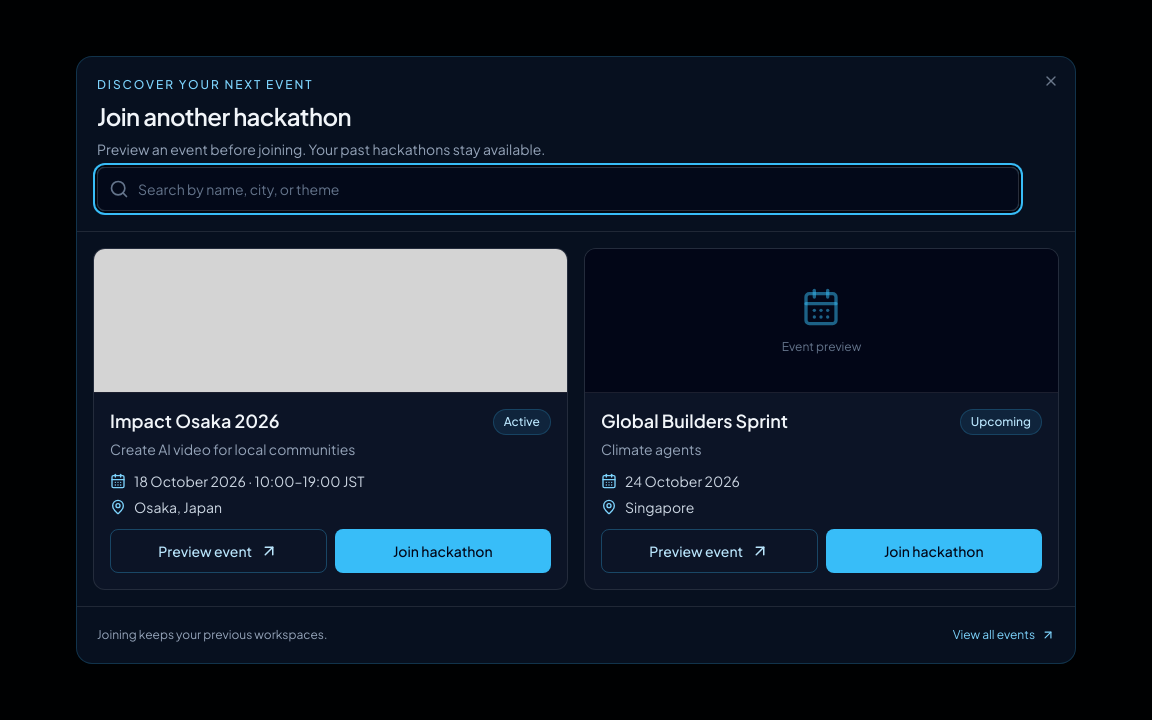
Test case: hackathon discovery › keeps a false join retryable instead of closing the discovery dialog
This screenshot has width=1152, height=720.
Later steps or results of the test are not shown.
Step 1. Click the button with aria-label "Join Impact Osaka 2026" → (443, 551), box [334,529,551,573]
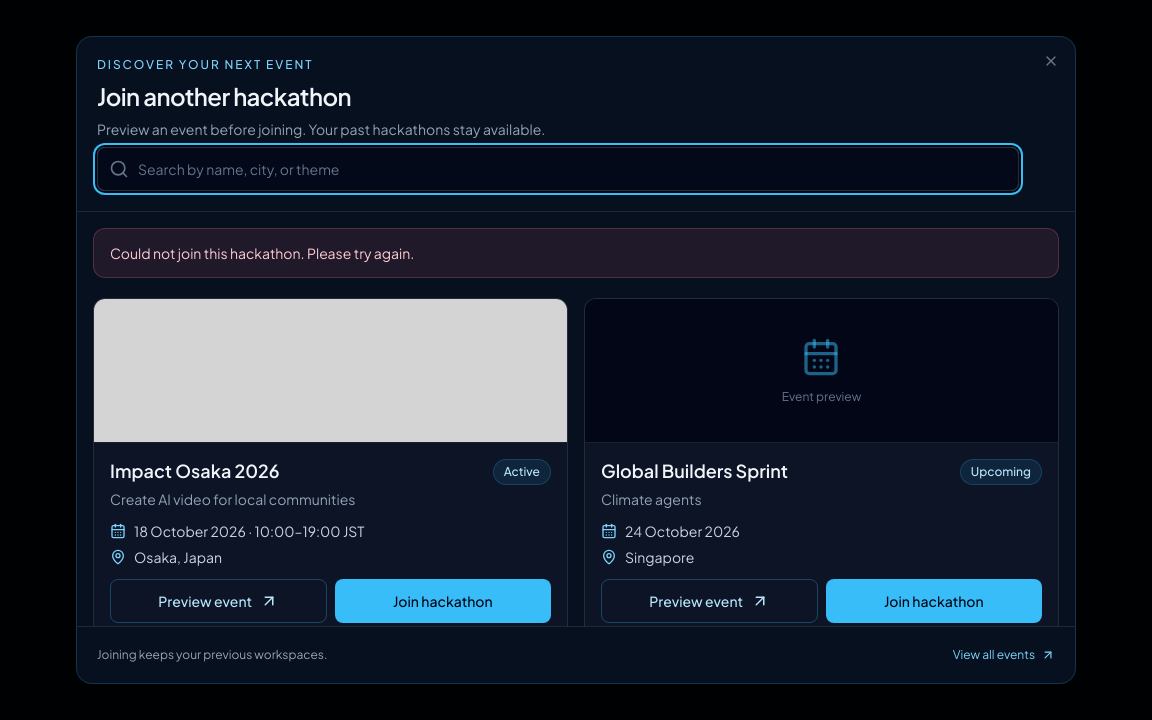
expect the button with aria-label "Join Impact Osaka 2026" is enabled: met, box [334,579,551,623]
expect the message reads "Could not join this hackathon. Please try again.": met, box [110,244,414,262]
